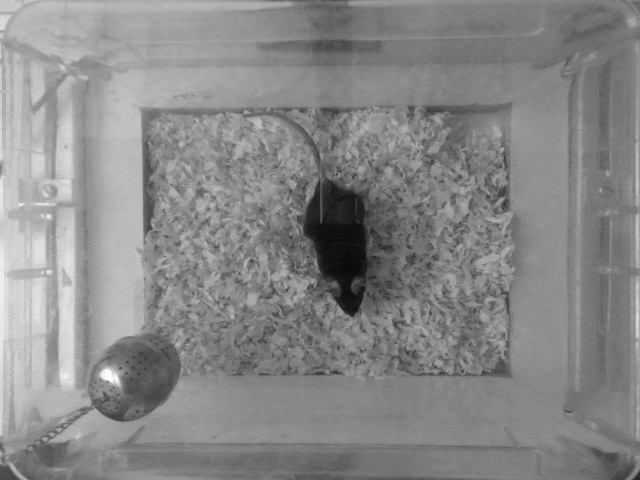mice: (239, 106, 372, 318)
